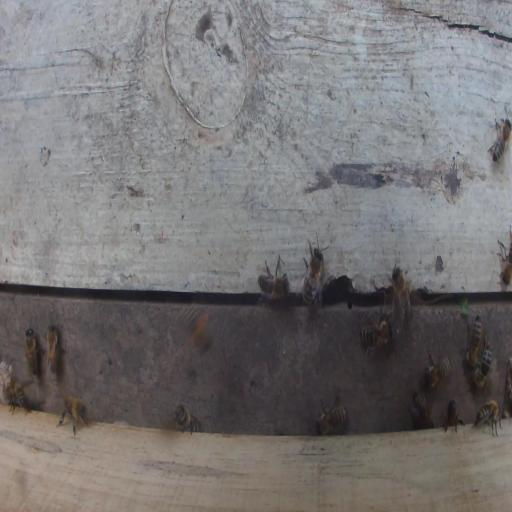bee: (292, 230, 331, 313), (359, 304, 394, 362), (257, 251, 291, 309), (485, 104, 512, 163), (315, 393, 348, 436), (469, 334, 493, 393), (391, 266, 411, 332), (461, 313, 483, 371), (58, 394, 88, 436), (472, 398, 503, 437), (424, 346, 452, 389), (495, 222, 512, 292), (409, 389, 435, 431), (10, 375, 33, 415), (174, 404, 199, 436), (45, 323, 59, 376), (445, 399, 467, 432), (25, 327, 39, 378)
